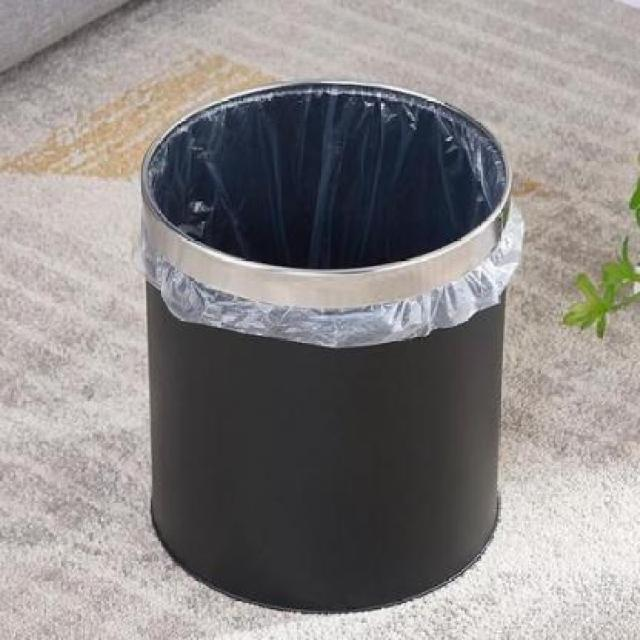dustbin: (134, 74, 526, 619)
